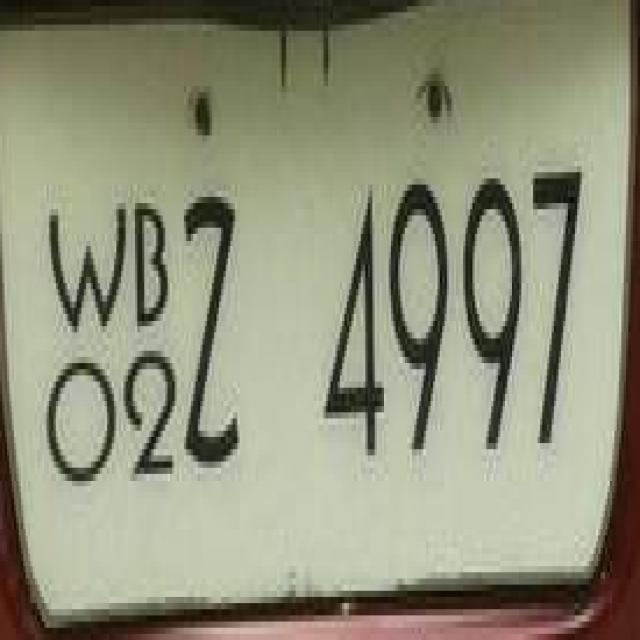license_plate: (9, 12, 640, 603)
